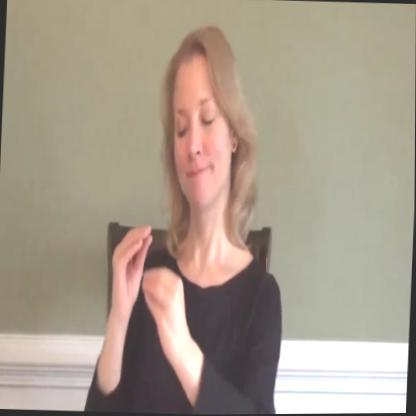Fix: (99, 213, 200, 366)
